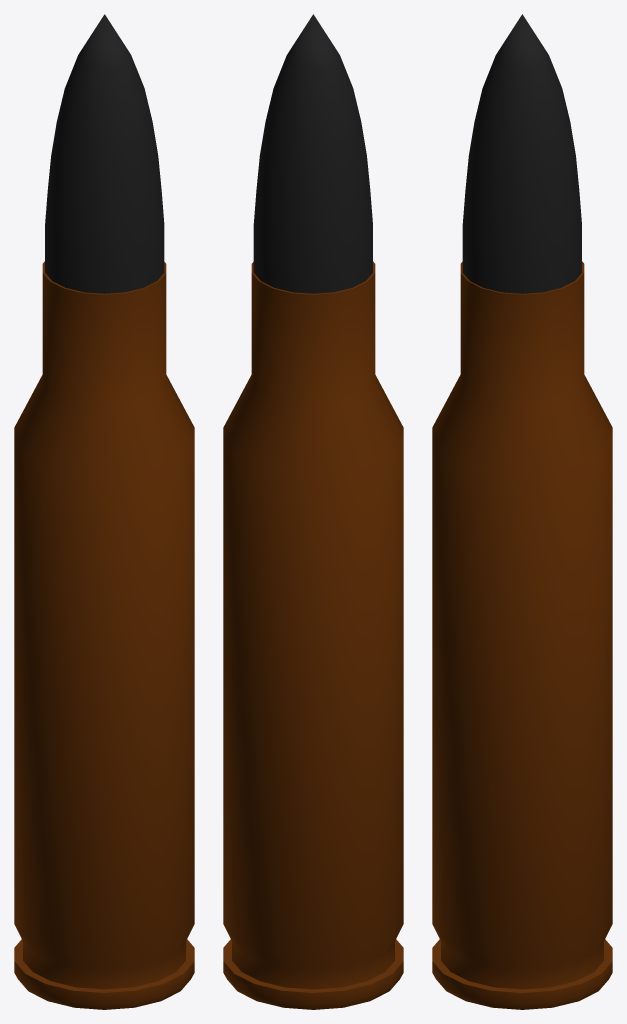
File: bullet.FBX
3 views of the same model, side by side, from view 1: azimuth 30°, elevation 25°; view 2: azimuth 150°, elevation 25°; view 3: azimuth 270°, elevation 25° (orthographic).
Parts seen in each view (by area): view 1: Cylinder001, Cylinder002; view 2: Cylinder001, Cylinder002; view 3: Cylinder001, Cylinder002.
Boxes of the visible parts, left/top/right/bottom form: Cylinder001: left=14, top=261, right=194, bottom=1009; Cylinder002: left=45, top=14, right=164, bottom=293; Cylinder001: left=223, top=261, right=403, bottom=1009; Cylinder002: left=253, top=14, right=372, bottom=293; Cylinder001: left=432, top=261, right=612, bottom=1009; Cylinder002: left=462, top=14, right=581, bottom=293.
Bounding box in the file's own units: 12 × 69.41 × 11.82.
